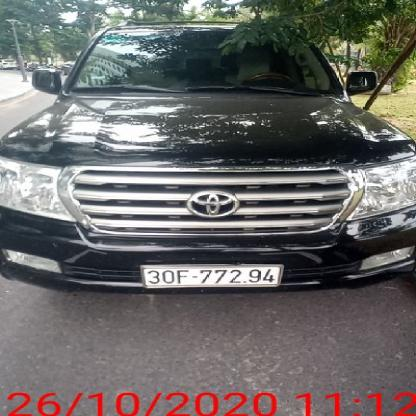biensoxe: (141, 260, 285, 292)
